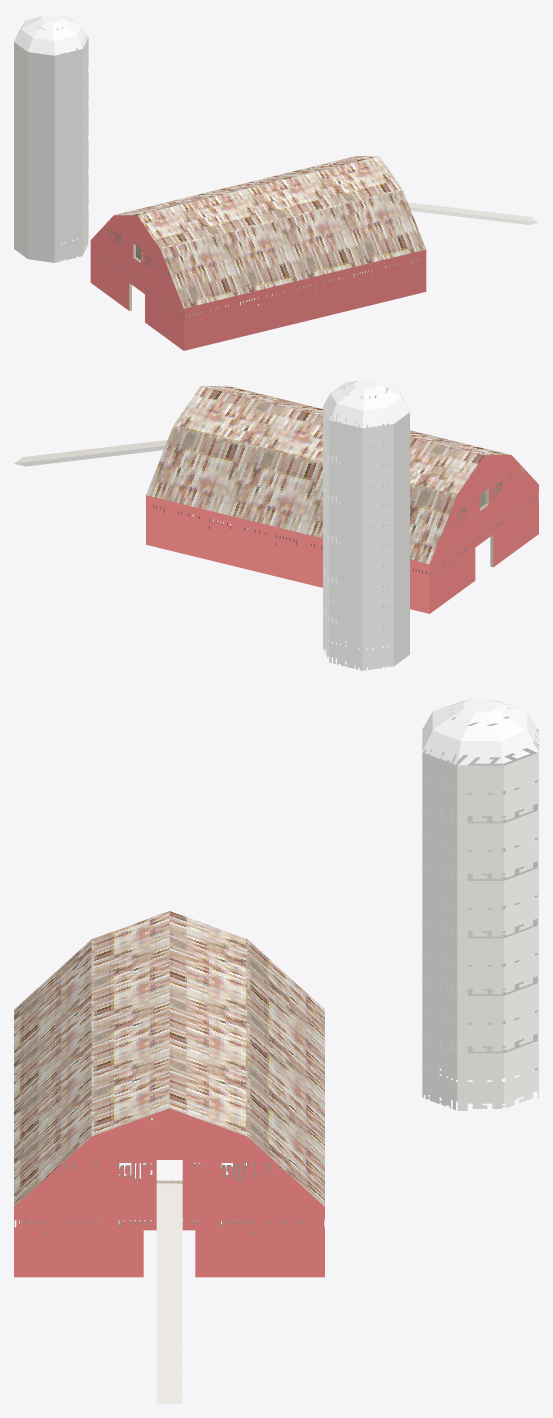
File: uvmd-0134.glb
3 renders of one model, top to bottom at view 1: azimuth 30°, elevation 25°; view 2: azimuth 150°, elevation 25°; view 3: azimuth 270°, elevation 25°, orthographic. The views are drawn at different scales.
Parts seen in each view (by area): view 1: uvmd-0134; view 2: uvmd-0134; view 3: uvmd-0134.
Boxes of the visible parts, x1,y1,x2,y2 form: uvmd-0134: (14,14,538,350); uvmd-0134: (14,379,538,670); uvmd-0134: (14,699,538,1403).
Bounding box in the file's own units: 625 × 324 × 405.
3 materials, 3 textured.
